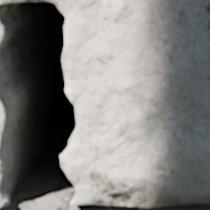brick: (0, 0, 209, 206), (0, 90, 9, 207), (0, 61, 2, 81)
crack: (0, 1, 81, 208)
